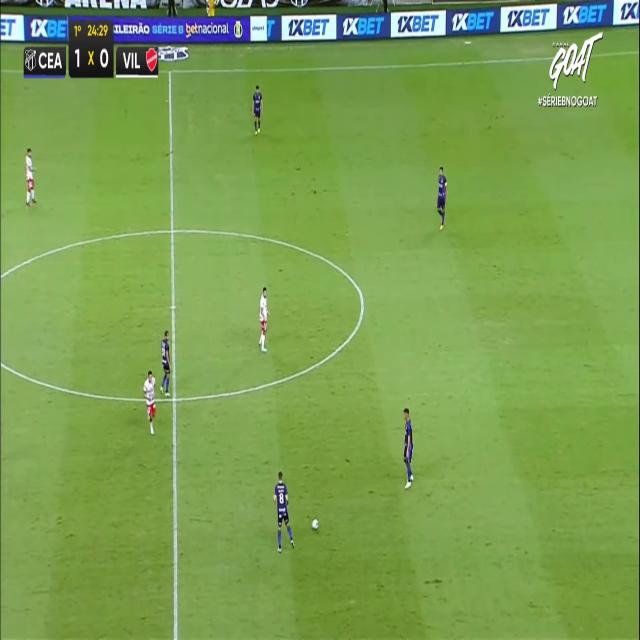ball: (312, 518, 318, 529)
player: (273, 470, 294, 552), (403, 407, 414, 488), (143, 370, 156, 435), (160, 329, 172, 396), (258, 287, 269, 352), (25, 147, 37, 206), (436, 165, 447, 229), (251, 83, 262, 134)
